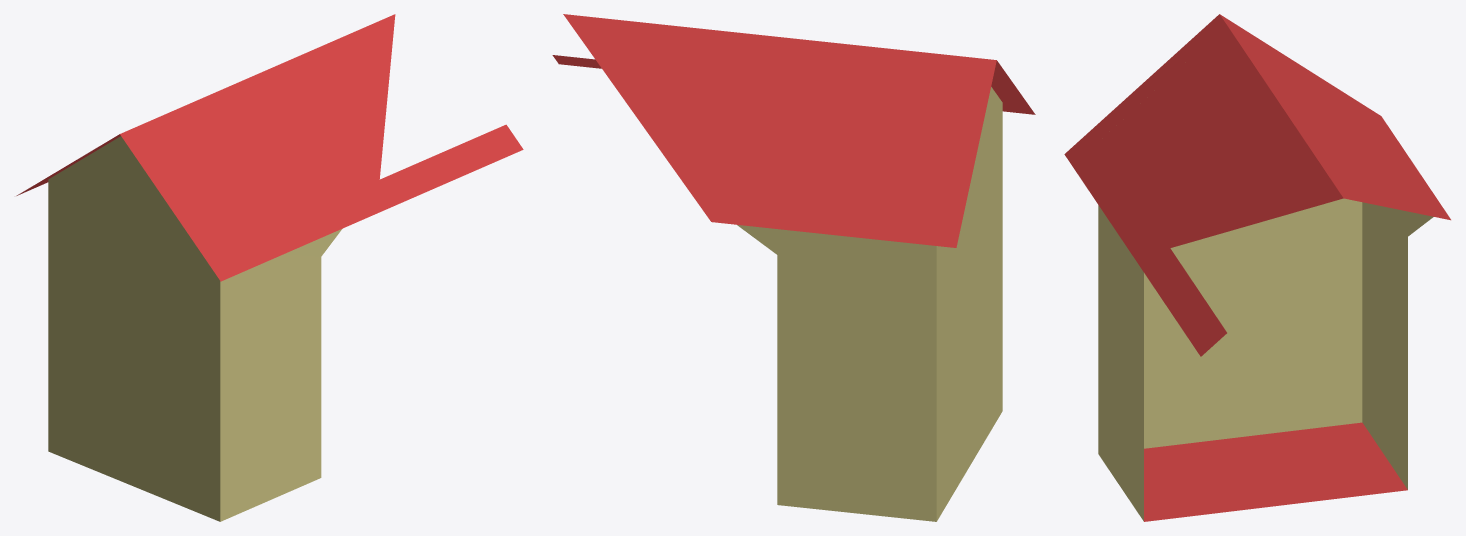
The picture shows the model from 3 angles, left to right: view 1: azimuth 30°, elevation 25°; view 2: azimuth 150°, elevation 25°; view 3: azimuth 270°, elevation 25°; orthographic projection. The views are drawn at different scales.
Size of the model in its own units: 15.49 by 10.53 by 12.41.
